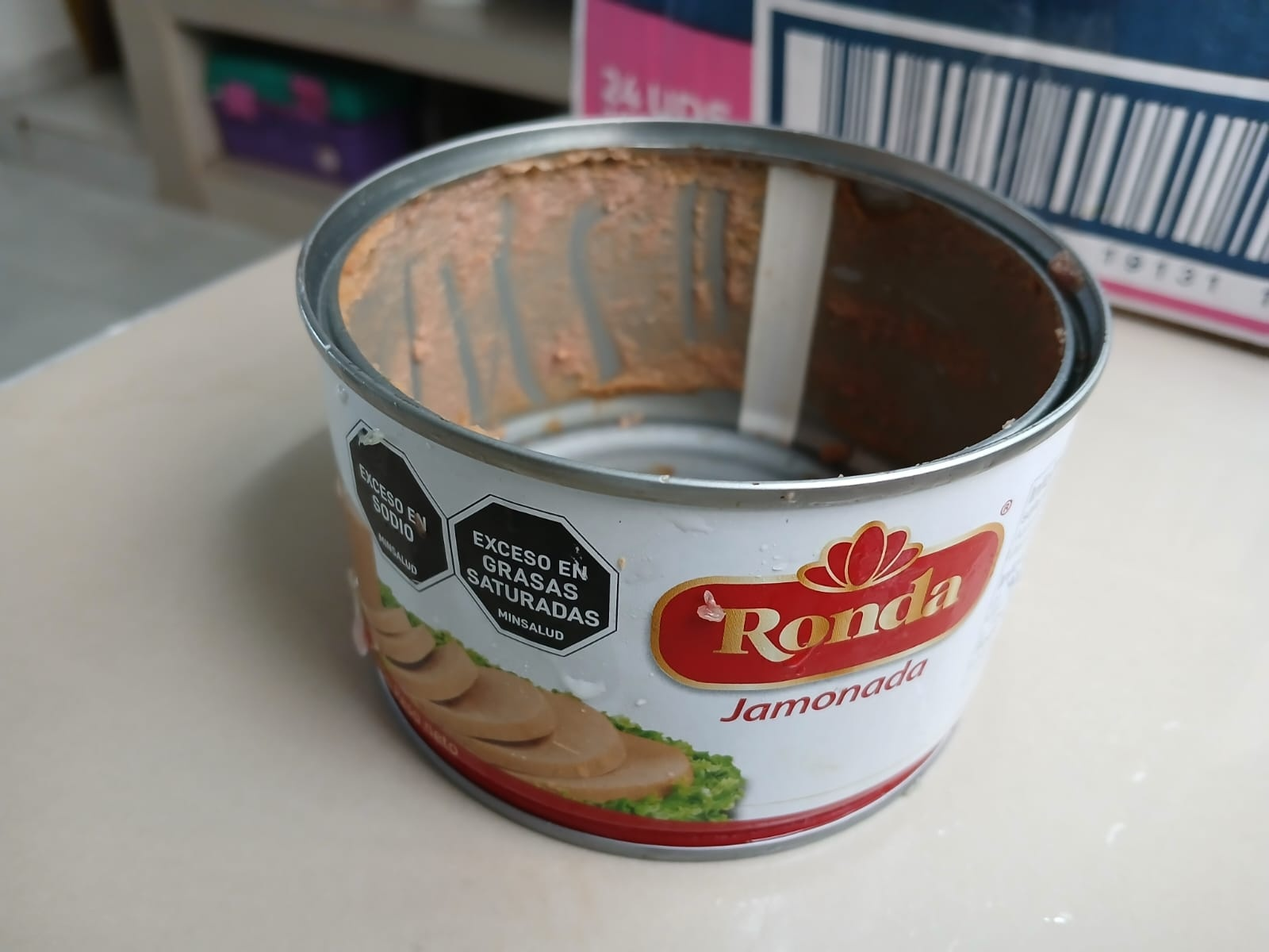Metal: (289, 113, 1112, 863)
